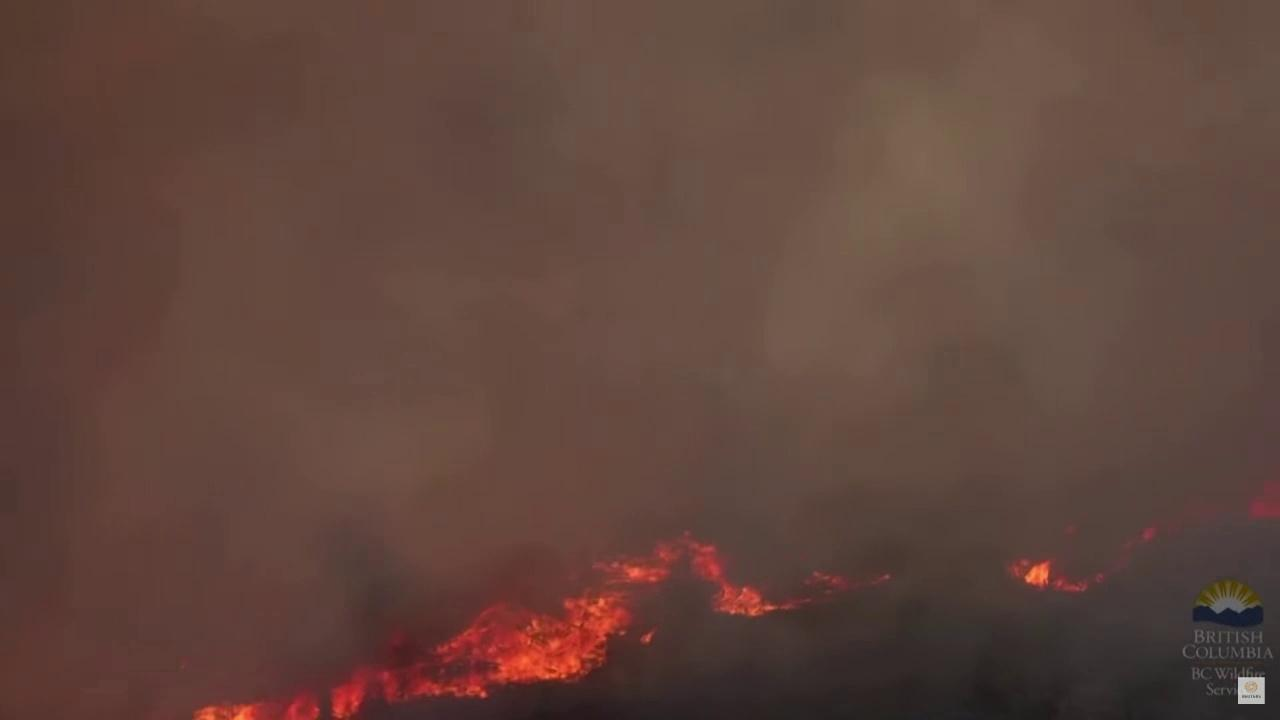fire: (179, 525, 897, 720), (1002, 520, 1162, 601), (1244, 473, 1280, 533)
smoke: (0, 0, 1280, 720)
